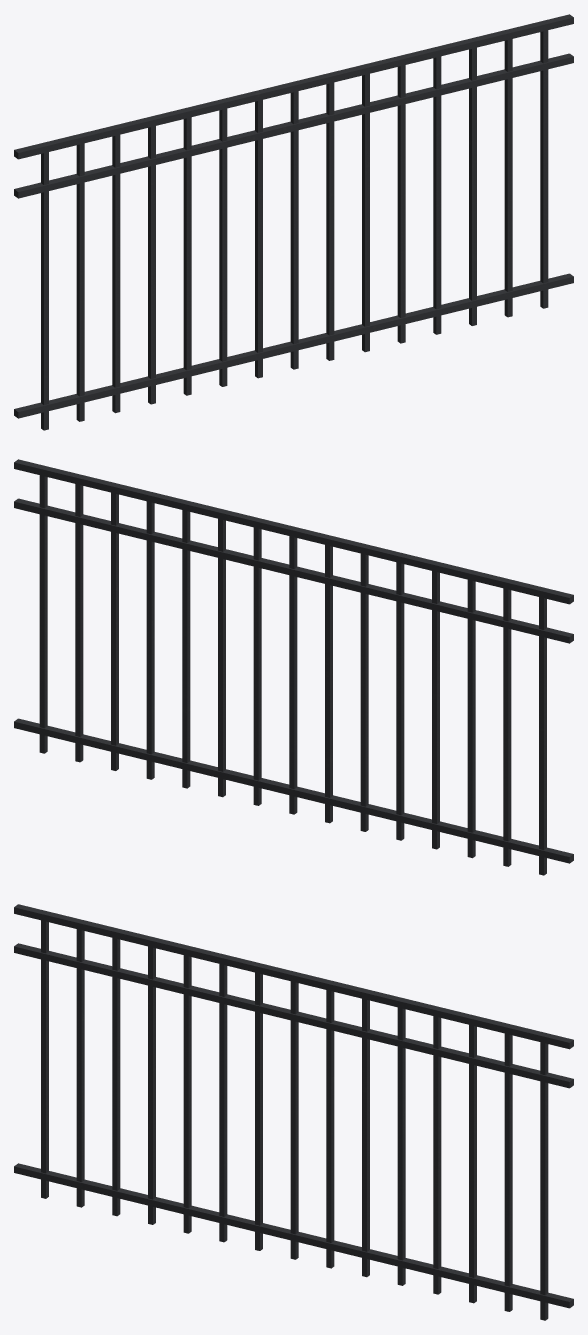
Rendered from StreetFence03_3.FBX.
The picture shows the model from 3 angles, top to bottom: view 1: azimuth 30°, elevation 25°; view 2: azimuth 150°, elevation 25°; view 3: azimuth 330°, elevation 25°; orthographic projection.
Visible parts, largest first — view 1: StreetFence03_3; view 2: StreetFence03_3; view 3: StreetFence03_3.
Part boxes in pixels (left/top/right/bottom): StreetFence03_3: left=14, top=14, right=573, bottom=430; StreetFence03_3: left=14, top=459, right=573, bottom=875; StreetFence03_3: left=14, top=904, right=573, bottom=1320.
Size of what is drawn, in the model's own units: 4.5 by 2.2 by 0.06.
